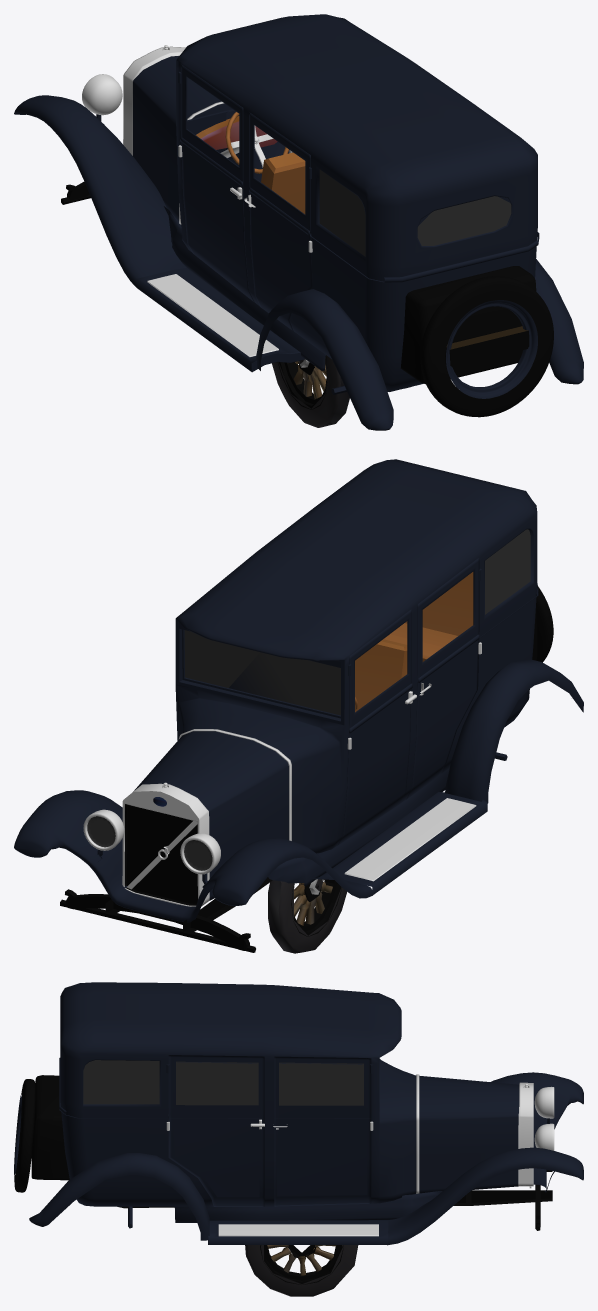
File: bureau-sedan.glb
The picture shows the model from 3 angles, top to bottom: view 1: azimuth 30°, elevation 25°; view 2: azimuth 150°, elevation 25°; view 3: azimuth 270°, elevation 25°; orthographic projection. The views are drawn at different scales.
Visible parts, largest first — view 1: body, wheel; view 2: body, wheel; view 3: body, wheel.
Part boxes in pixels (x1,y1,x2,y2): body: (14, 14, 583, 430); wheel: (272, 355, 349, 427); body: (14, 459, 583, 952); wheel: (268, 879, 346, 953); body: (14, 982, 583, 1245); wheel: (245, 1245, 358, 1296).
Size of the model in its own units: 1.66 by 2.49 by 4.45.
